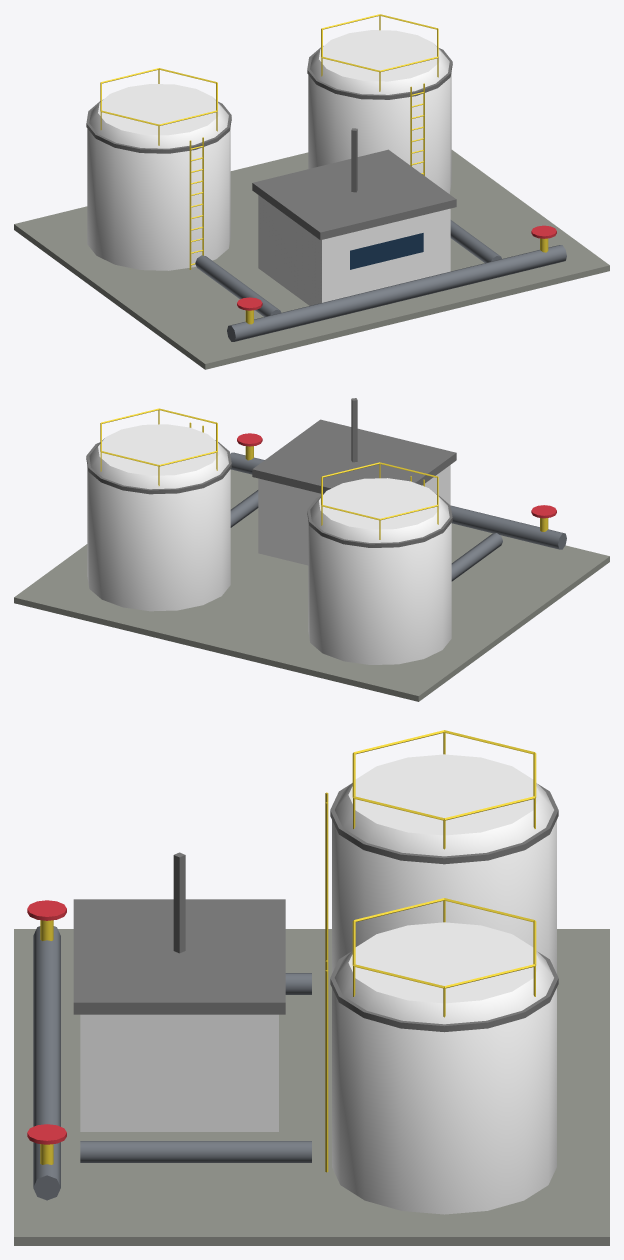
The model's file is roofprop_close.fbx.
3 views of the same model, one above another, from view 1: azimuth 30°, elevation 25°; view 2: azimuth 150°, elevation 25°; view 3: azimuth 270°, elevation 25° (orthographic). The views are drawn at different scales.
Visible parts, largest first — view 1: a1073/0/roofprop_close; view 2: a1073/0/roofprop_close; view 3: a1073/0/roofprop_close.
Boxes of the visible parts, left/top/right/bottom form: a1073/0/roofprop_close: left=14, top=14, right=609, bottom=369; a1073/0/roofprop_close: left=14, top=398, right=609, bottom=701; a1073/0/roofprop_close: left=14, top=730, right=609, bottom=1245.
Size of the model in its own units: 22 by 7.9 by 18.
